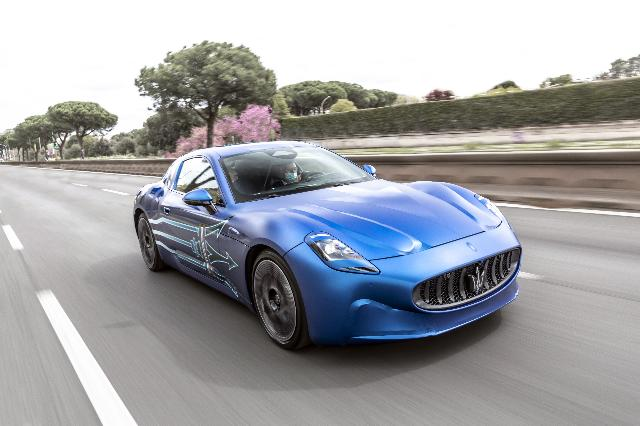maserati: (133, 139, 522, 351)
